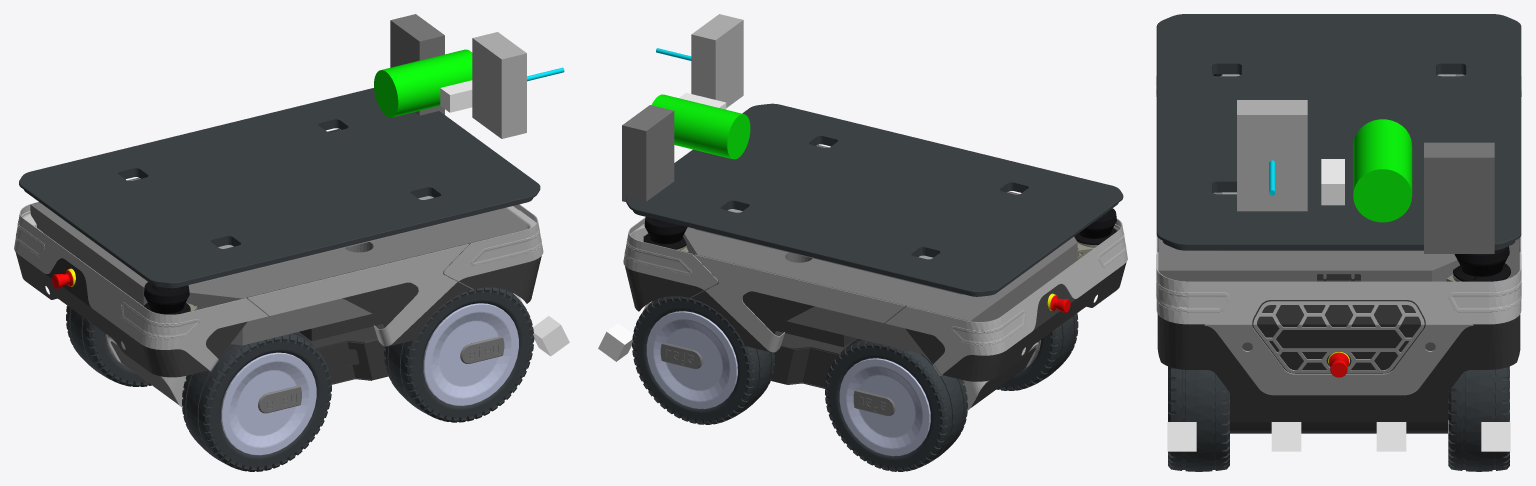
The model's file is efeu-web.glb.
3 views of the same model, side by side, from view 1: azimuth 30°, elevation 25°; view 2: azimuth 150°, elevation 25°; view 3: azimuth 270°, elevation 25° (orthographic). The views are drawn at different scales.
Parts seen in each view (by area): view 1: node0 (×5), node3 (×3), node7, node5, node2 (×4), node8, tof_link, thermal_link, node4, radar_link, node23, node24 (+6 smaller); view 2: node0 (×5), node3 (×3), node2 (×4), node7, node1 (×2), node8, radar_link, tof_link, thermal_link, LMS1xx (×2), node23, node24 (+3 smaller); view 3: node0 (×2), node24, node23, node3 (×2), radar_link, tof_link, thermal_link, node33, LMS1xx, node45, node43, rgb_link (+5 smaller).
Part boxes in pixels (x1,y1,x2,y2): node0 (×5): (19,88,540,455); node3 (×3): (66,287,534,471); node7: (14,202,267,371); node5: (248,244,468,346); node2 (×4): (110,324,504,413); node8: (15,202,247,377); tof_link: (472,32,526,138); thermal_link: (374,49,472,117); node4: (247,243,471,345); radar_link: (390,14,444,115); node23: (327,128,543,281); node24: (328,129,541,303); node0 (×5): (626,103,1123,456); node3 (×3): (632,295,1078,471); node2 (×4): (660,254,1035,416); node7: (885,218,1127,375); node1 (×2): (692,254,905,388); node8: (905,262,1126,381); radar_link: (622,105,674,201); tof_link: (691,14,743,107); thermal_link: (651,94,750,159); LMS1xx (×2): (643,208,1116,259); node23: (623,144,829,289); node24: (625,145,828,311); node0 (×2): (1156,14,1521,281); node24: (1157,237,1520,433); node23: (1156,236,1521,395); node3 (×2): (1168,366,1509,471); radar_link: (1424,142,1494,253); tof_link: (1237,100,1307,211); thermal_link: (1353,119,1412,222); node33: (1253,301,1424,373); LMS1xx: (1446,246,1511,281); node45: (1448,252,1521,312); node43: (1156,252,1229,312); rgb_link: (1321,159,1344,205).
Bounding box in the file's own units: 1.11 × 0.744 × 0.619.
